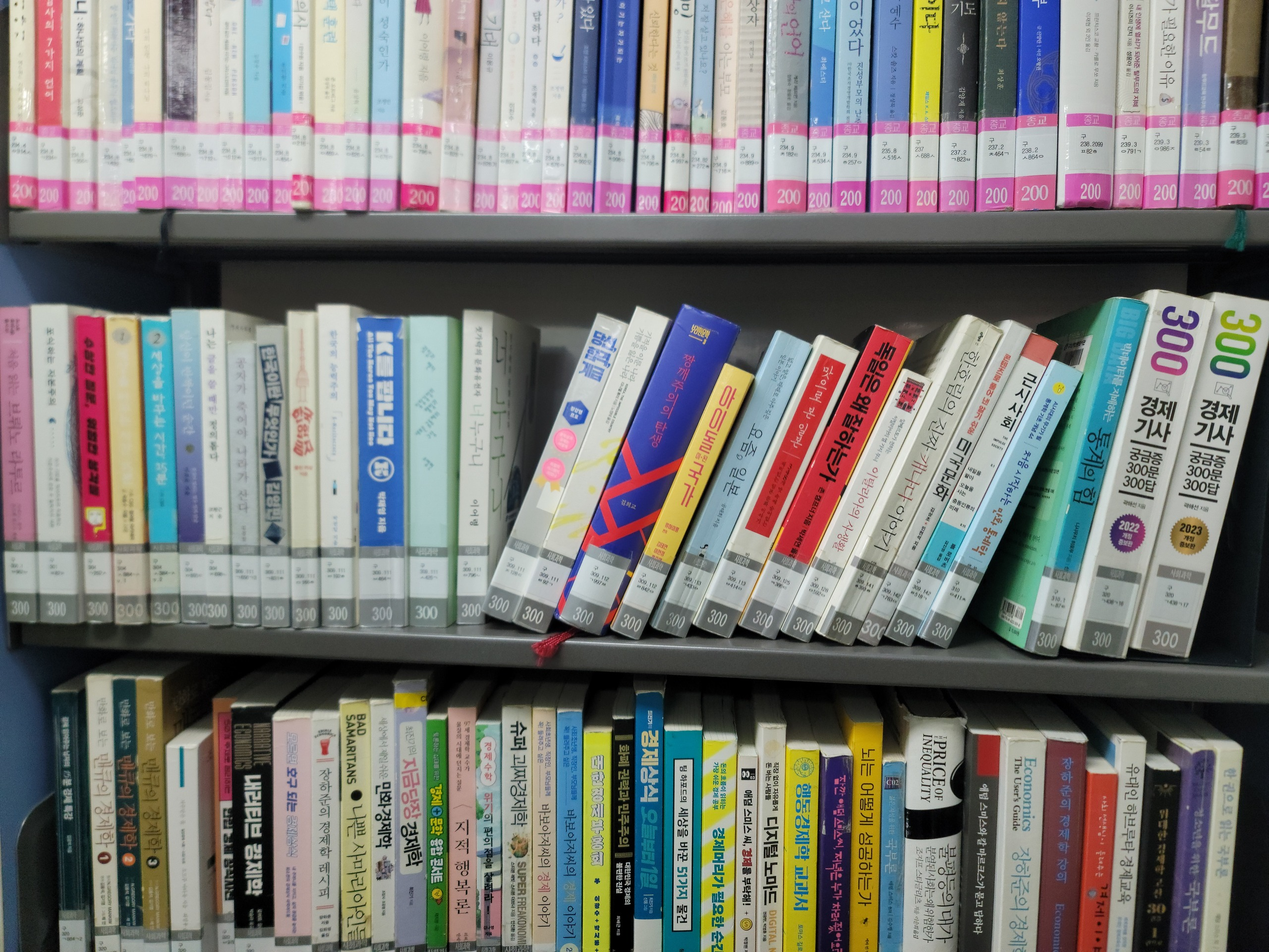book-spine: (549, 301, 739, 636), (821, 314, 1002, 646), (855, 318, 1031, 648), (732, 323, 912, 641), (881, 331, 1058, 648), (1072, 288, 1215, 659), (509, 303, 669, 634), (689, 334, 858, 640), (648, 328, 812, 640), (1131, 289, 1268, 660), (470, 311, 627, 632), (917, 359, 1083, 650), (1029, 296, 1148, 659), (781, 367, 932, 647), (607, 361, 753, 641), (29, 303, 78, 623), (356, 318, 406, 629), (453, 309, 494, 632), (104, 317, 146, 624), (408, 316, 449, 627), (72, 316, 113, 623), (139, 319, 180, 624), (0, 307, 38, 625), (317, 304, 353, 629), (170, 310, 207, 624), (255, 324, 290, 628), (198, 311, 231, 625), (288, 310, 320, 630), (225, 341, 260, 626)
